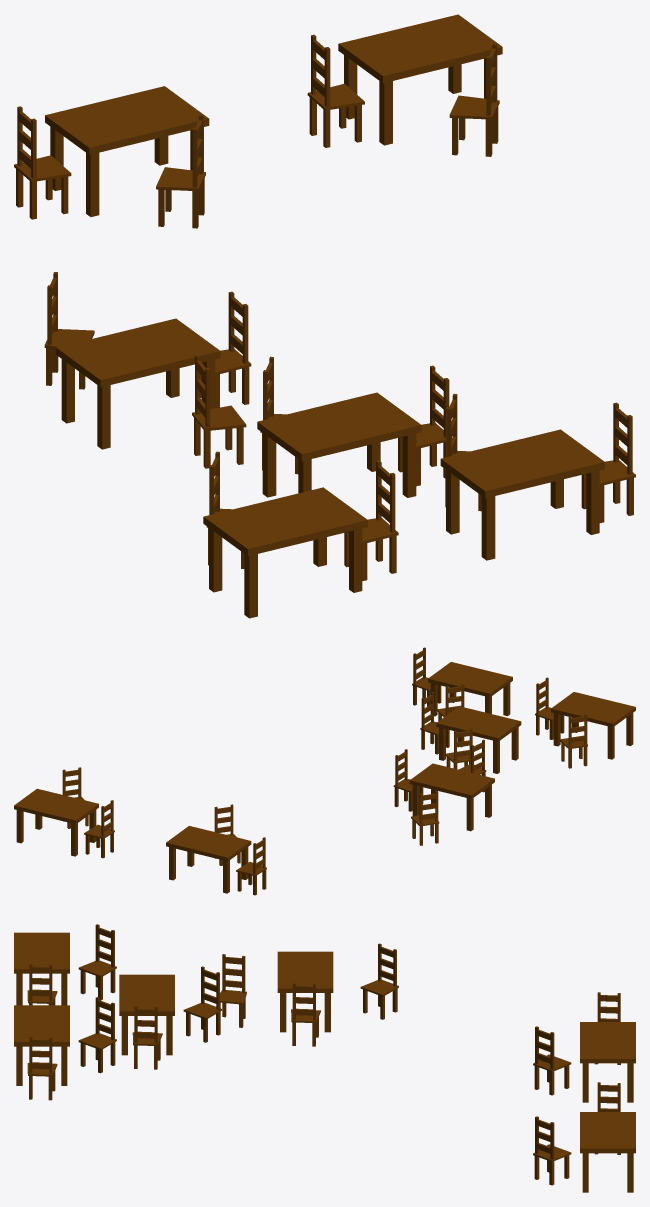
Rendered from tischeStuehle.dae.
3 renders of one model, top to bottom at view 1: azimuth 30°, elevation 25°; view 2: azimuth 150°, elevation 25°; view 3: azimuth 270°, elevation 25°, orthographic. The views are drawn at different scales.
Parts seen in each view (by area): view 1: tisch.2, tisch, tisch.3, tisch.1, tisch.4, tisch.5, stuhl.11, stuhl.9, stuhl.4, stuhl.5, stuhl, stuhl.10 (+4 smaller); view 2: tisch.5, tisch.1, tisch, tisch.4, tisch.3, tisch.2, stuhl.1, stuhl.3, stuhl.9, stuhl.11, stuhl, stuhl.2 (+7 smaller); view 3: tisch.5, tisch.4, tisch.1, tisch.3, tisch.2, tisch, stuhl.6, stuhl.1, stuhl.3, stuhl.8, stuhl.12, stuhl.10 (+7 smaller).
Boxes of the visible parts, x1,y1,x2,y2 form: tisch.2: (440, 429, 604, 560); tisch: (203, 487, 367, 618); tisch.3: (257, 392, 421, 497); tisch.1: (56, 318, 220, 449); tisch.4: (45, 86, 209, 216); tisch.5: (338, 14, 502, 145); stuhl.11: (307, 34, 364, 147); stuhl.9: (14, 106, 71, 219); stuhl.4: (192, 354, 246, 468); stuhl.5: (581, 402, 635, 522); stuhl: (344, 460, 398, 580); stuhl.10: (156, 114, 205, 228); tisch.5: (14, 788, 98, 856); tisch.1: (409, 763, 494, 831); tisch: (551, 692, 635, 759); tisch.4: (166, 826, 251, 893); tisch.3: (436, 706, 521, 773); tisch.2: (428, 662, 512, 716); stuhl.1: (559, 714, 587, 768); stuhl.3: (411, 791, 439, 845); stuhl.9: (236, 837, 266, 895); stuhl.11: (84, 800, 114, 858); stuhl: (535, 677, 564, 739); stuhl.2: (393, 749, 423, 811); tisch.5: (580, 1112, 635, 1192); tisch.4: (580, 1022, 635, 1102); tisch.1: (277, 951, 333, 1032); tisch.3: (119, 974, 174, 1055); tisch.2: (14, 1005, 69, 1085); tisch: (14, 932, 69, 1005); stuhl.6: (78, 997, 116, 1073); stuhl.1: (78, 924, 116, 1000); stuhl.3: (360, 943, 398, 1019); stuhl.8: (183, 966, 221, 1042); stuhl.12: (533, 1116, 571, 1185); stuhl.10: (533, 1026, 571, 1095).
Size of the model in its own units: 141 by 18.75 by 171.
